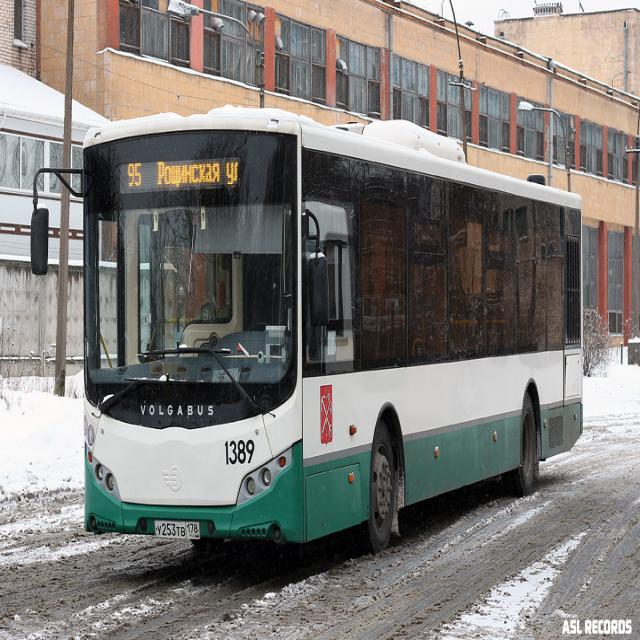number-of-bus: (127, 161, 145, 190)
